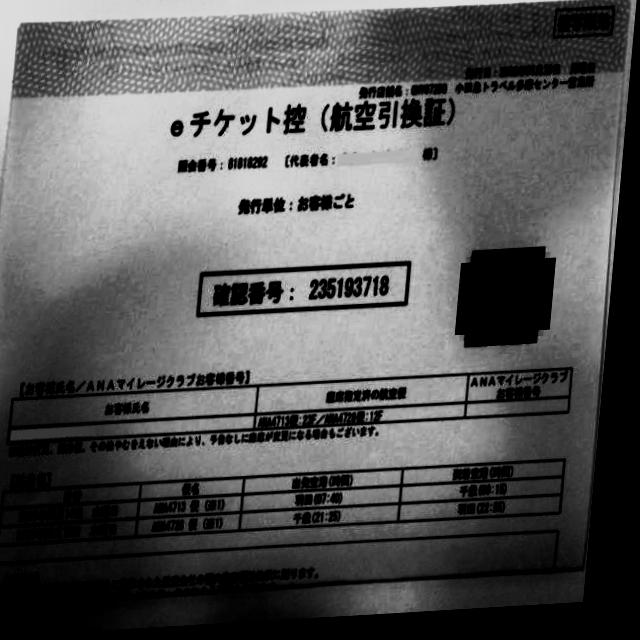qr_code: (466, 260, 556, 348)
